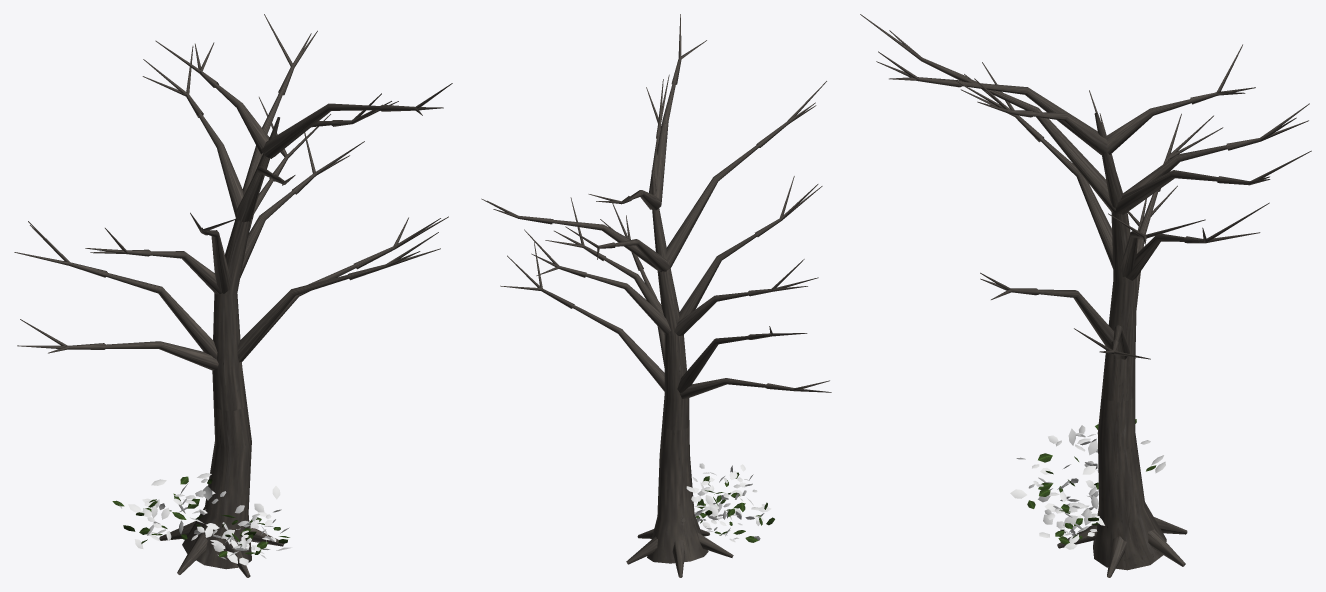
File: SM_Env_Tile_m1_p3.fbx
3 views of the same model, side by side, from view 1: azimuth 30°, elevation 25°; view 2: azimuth 150°, elevation 25°; view 3: azimuth 270°, elevation 25° (orthographic). The views are drawn at different scales.
Parts seen in each view (by area): view 1: SM_Env_Tile_m1_p3; view 2: SM_Env_Tile_m1_p3; view 3: SM_Env_Tile_m1_p3.
Part boxes in pixels (x1,y1,x2,y2): SM_Env_Tile_m1_p3: [14, 14, 452, 577]; SM_Env_Tile_m1_p3: [481, 14, 831, 577]; SM_Env_Tile_m1_p3: [860, 14, 1311, 577].
Bounding box in the file's own units: 881 × 800 × 1100.
Materials: 5 (2 with a texture image).
